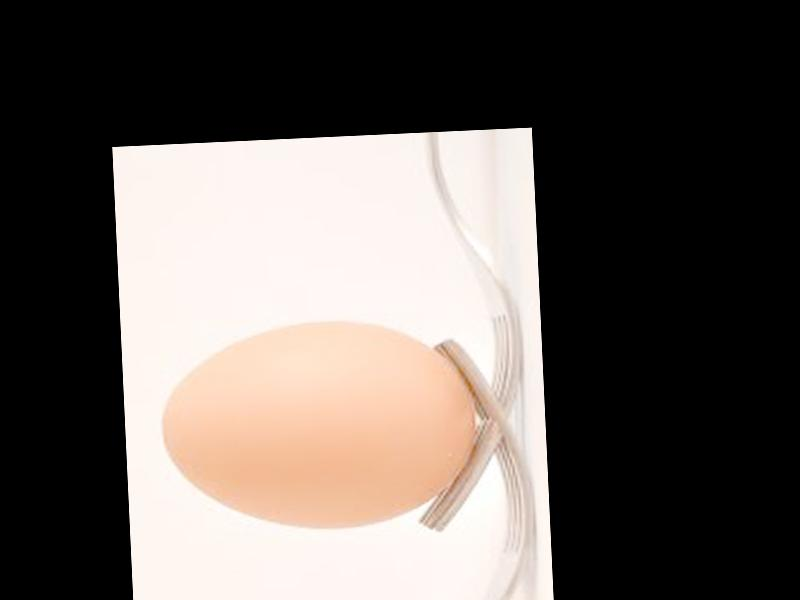Eggs: (158, 314, 479, 535)
